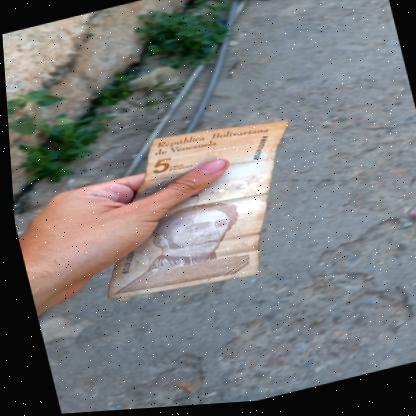five-front-vef: (68, 108, 321, 313)
